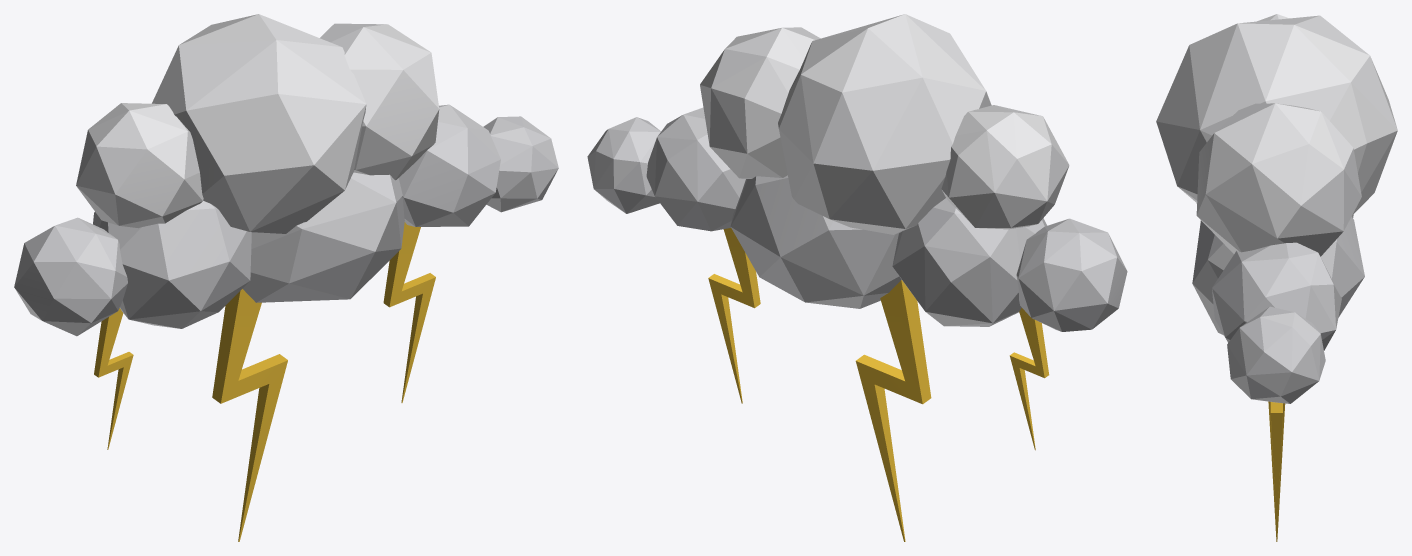
Rendered from stylize_cloud_12.fbx.
3 views of the same model, side by side, from view 1: azimuth 30°, elevation 25°; view 2: azimuth 150°, elevation 25°; view 3: azimuth 270°, elevation 25° (orthographic). The views are drawn at different scales.
Visible parts, largest first — view 1: cloud_92; view 2: cloud_92; view 3: cloud_92.
Boxes of the visible parts, x1,y1,x2,y2 form: cloud_92: (14,14,558,541); cloud_92: (587,14,1127,541); cloud_92: (1156,14,1397,541).
Bounding box in the file's own units: 570 × 534 × 220.
